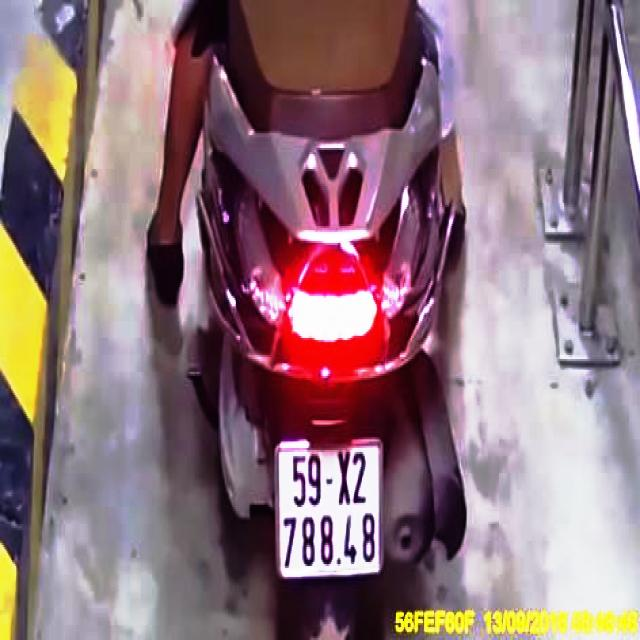license_plate: (283, 445, 380, 576)
